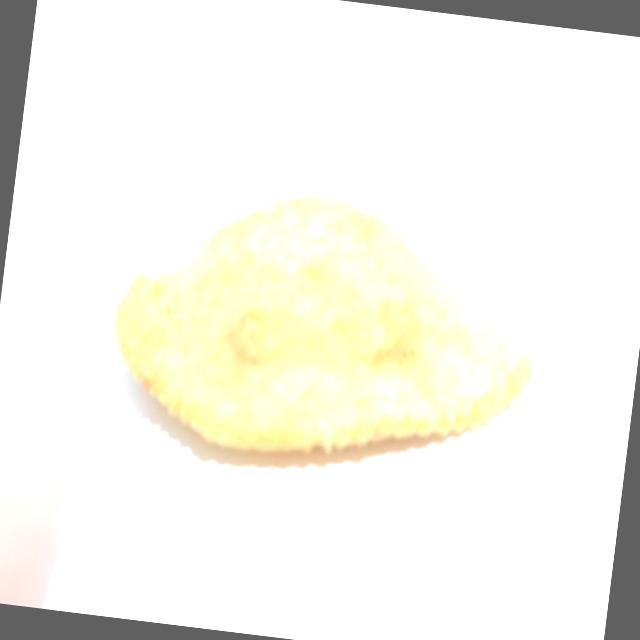Pastel_Mandio: (91, 165, 556, 504)
